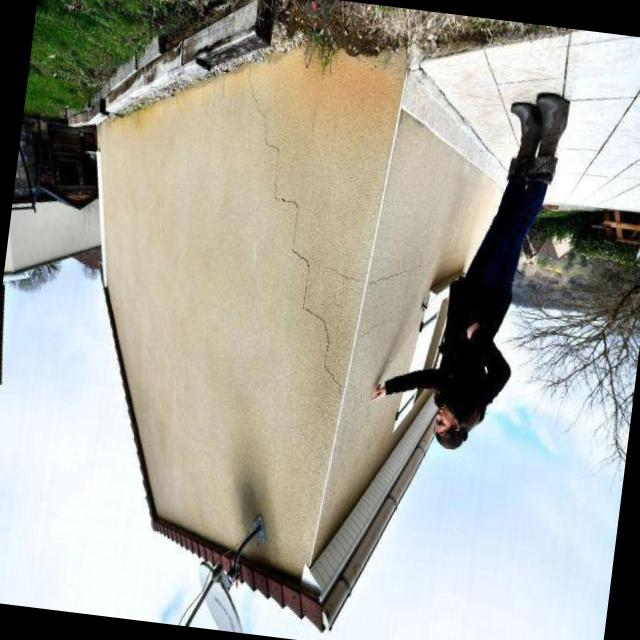crack: (245, 65, 339, 394)
